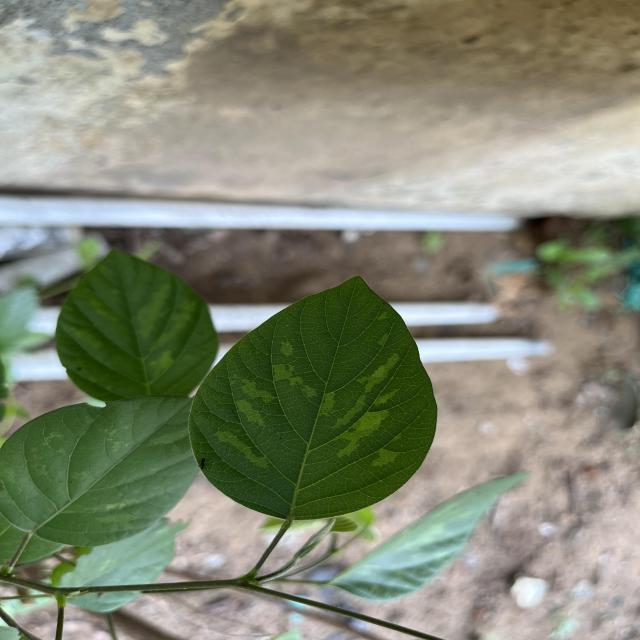Desmodium gangeticum: (183, 271, 440, 525)
